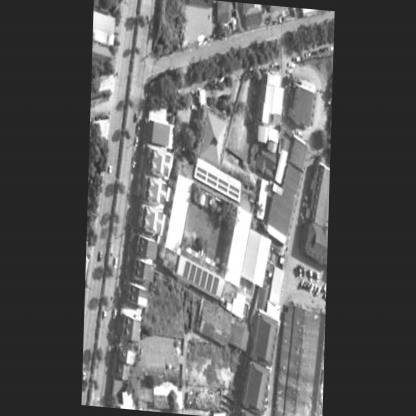solar-pv-panel: (183, 260, 219, 294)
